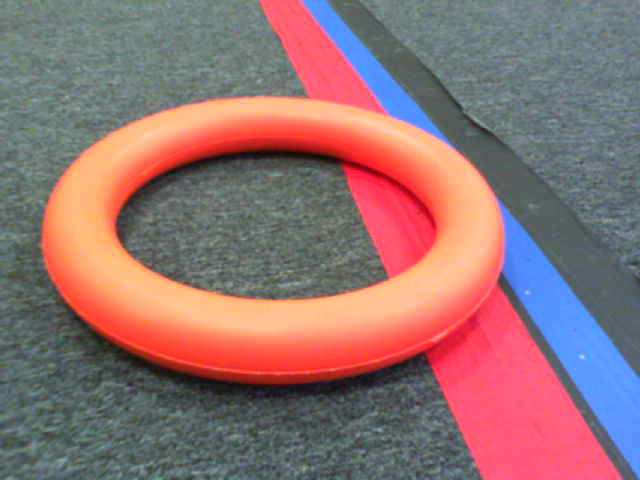Note: (50, 101, 512, 393)
